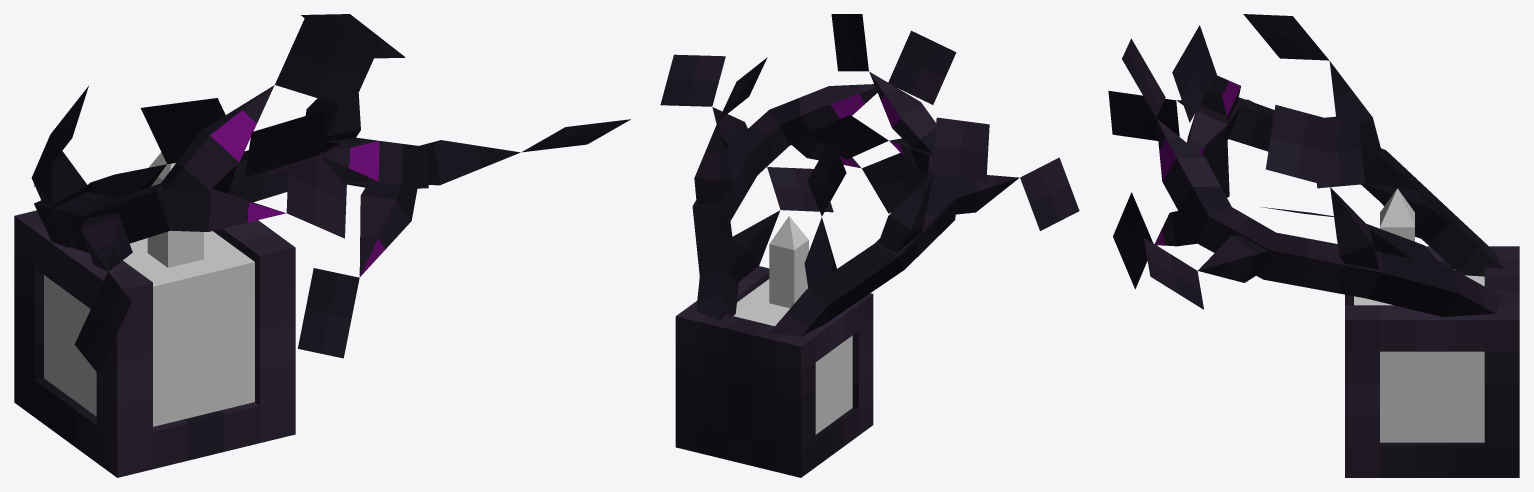
The model's file is head_smart.obj.
3 views of the same model, side by side, from view 1: azimuth 30°, elevation 25°; view 2: azimuth 150°, elevation 25°; view 3: azimuth 270°, elevation 25° (orthographic). The views are drawn at different scales.
Parts seen in each view (by area): view 1: HEAD_SMART_WOOD_Cube.075; view 2: HEAD_SMART_WOOD_Cube.075; view 3: HEAD_SMART_WOOD_Cube.075.
Part boxes in pixels (<box>): HEAD_SMART_WOOD_Cube.075: <box>14,14,630,477</box>; HEAD_SMART_WOOD_Cube.075: <box>660,14,1079,477</box>; HEAD_SMART_WOOD_Cube.075: <box>1108,14,1519,477</box>.
Bounding box in the file's own units: 0.9727 × 0.8329 × 0.7367.
